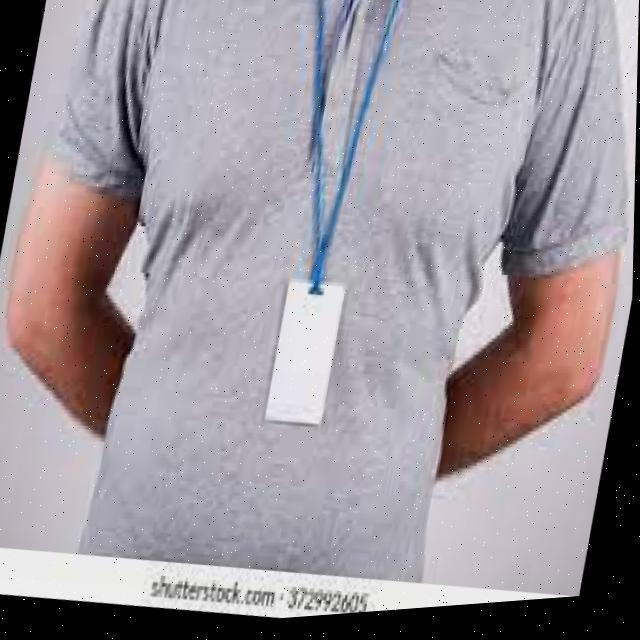id_card: (238, 0, 422, 446)
